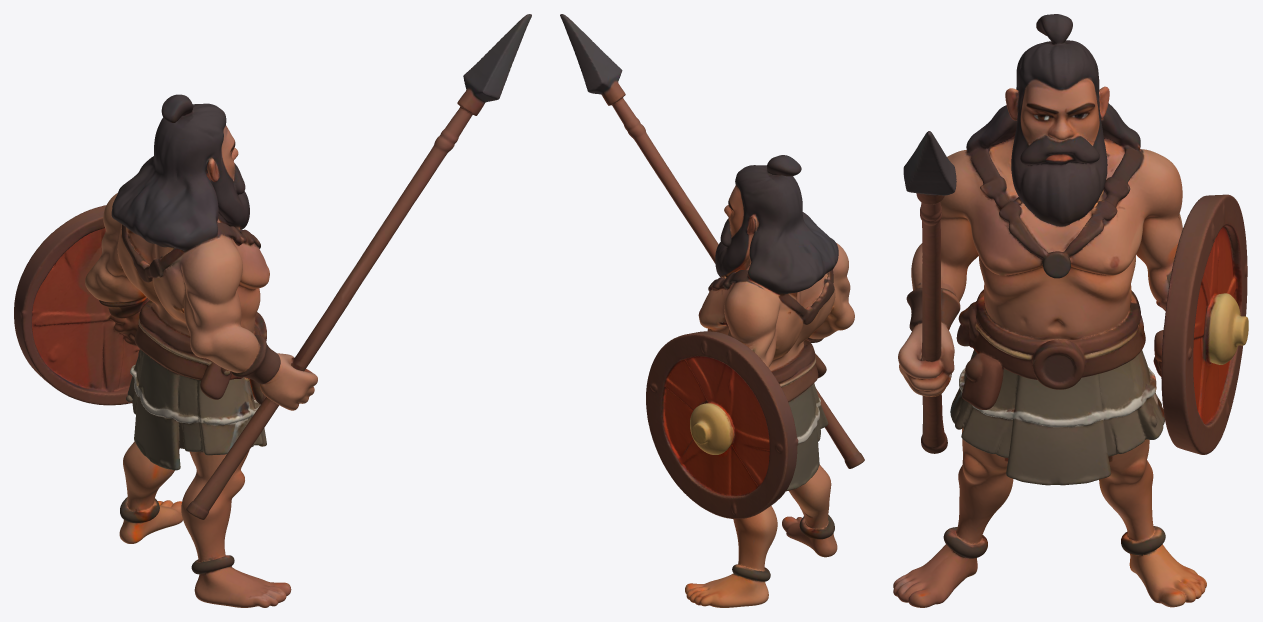
The model's file is spearman 2.glb.
The picture shows the model from 3 angles, left to right: view 1: azimuth 30°, elevation 25°; view 2: azimuth 150°, elevation 25°; view 3: azimuth 270°, elevation 25°; orthographic projection. The views are drawn at different scales.
Visible parts, largest first — view 1: tripo_node_ad3d6245-caad-4fa5-ac15-fc778245a3a5; view 2: tripo_node_ad3d6245-caad-4fa5-ac15-fc778245a3a5; view 3: tripo_node_ad3d6245-caad-4fa5-ac15-fc778245a3a5.
Part boxes in pixels (<box>): tripo_node_ad3d6245-caad-4fa5-ac15-fc778245a3a5: <box>14,14,531,607</box>; tripo_node_ad3d6245-caad-4fa5-ac15-fc778245a3a5: <box>560,14,864,607</box>; tripo_node_ad3d6245-caad-4fa5-ac15-fc778245a3a5: <box>893,14,1248,607</box>.
Size of the model in its own units: 0.7807 by 1 by 0.5155.
Materials: 1 (1 with a texture image).
